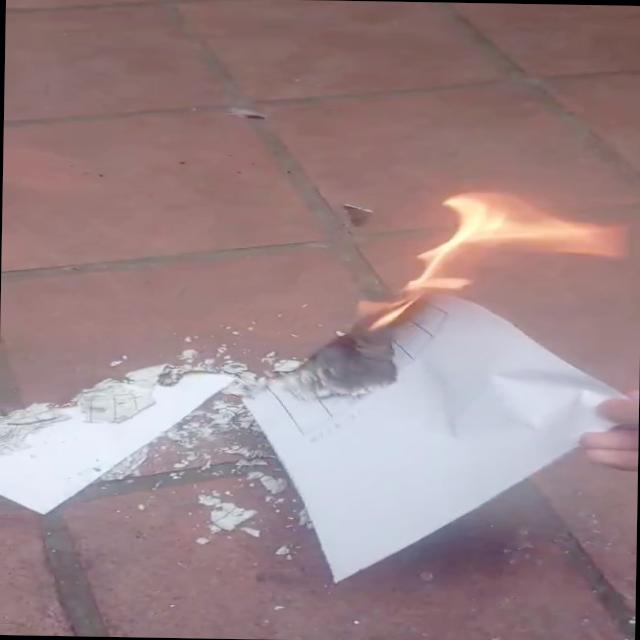Fire_Dangerous: (321, 188, 640, 337)
